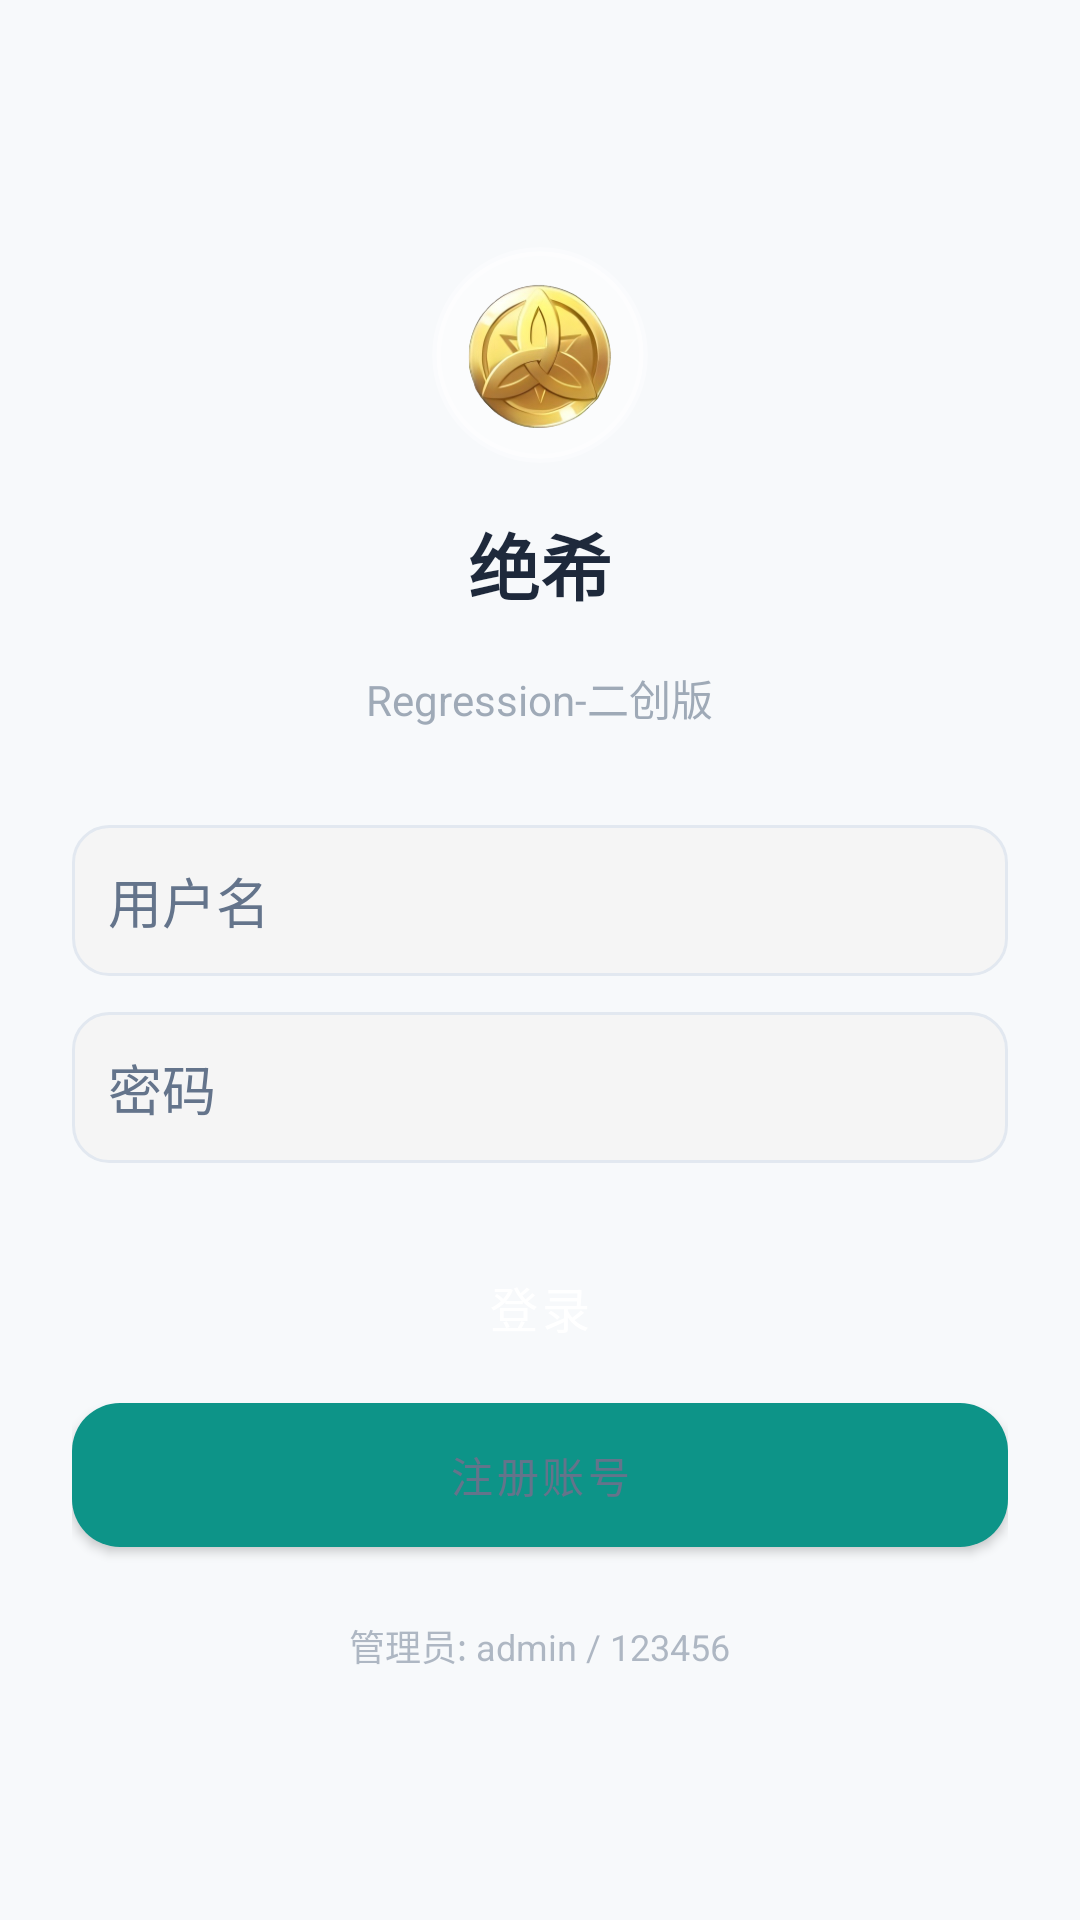

Named icons in this screenshot (1080 × 1920) and their centers, (x=x, y=y):
mora: (x=540, y=356)
